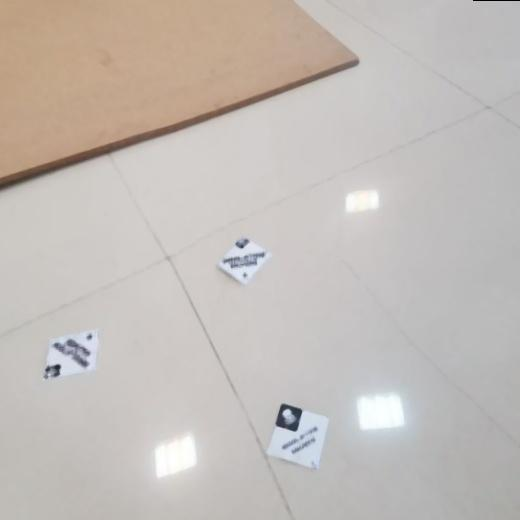poison: (262, 400, 331, 474), (214, 235, 278, 286), (42, 327, 98, 380)
